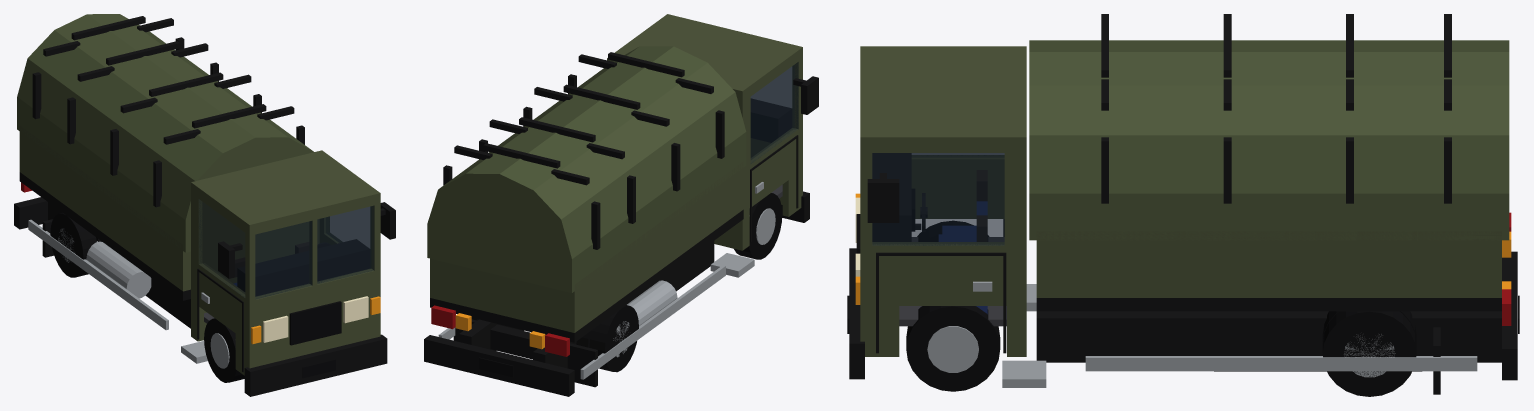
File: truk_terpal.glb
The picture shows the model from 3 angles, left to right: view 1: azimuth 30°, elevation 25°; view 2: azimuth 150°, elevation 25°; view 3: azimuth 270°, elevation 25°; orthographic projection. The views are drawn at different scales.
Visible parts, largest first — view 1: CanvasRoof, Roof, BakWall_L, CabFrontLow, Bumper_F, Windshield_L, Windshield_R, IntDash, CanvasFrontFlap, SideGlass_L, CabBackTop, CanvasStrap_0 (+32 smaller); view 2: CanvasRoof, CanvasRearFlap, BakWall_L, Roof, BakBack, Bumper_R, SideGlass_L, CargoFloor, Wheel_RL, CanvasStrap_3, CanvasStrap_1, CanvasStrap_0 (+25 smaller); view 3: CanvasRoof, BakWall_R, Roof, ChassisRail_R, SideGlass_R, CargoFloor, SideGuard_R, Wheel_RR, CabArch_R, Wheel_FR, CabArch_L, CabSideLowF_R (+22 smaller).
Part boxes in pixels (bbox=[...]): CanvasRoof: bbox=[19, 16, 310, 247]; Roof: bbox=[191, 150, 380, 232]; BakWall_L: bbox=[19, 125, 187, 291]; CabFrontLow: bbox=[246, 272, 380, 368]; Bumper_F: bbox=[244, 334, 387, 396]; Windshield_L: bbox=[255, 221, 312, 299]; Windshield_R: bbox=[317, 206, 373, 283]; IntDash: bbox=[237, 239, 369, 296]; CanvasFrontFlap: bbox=[183, 135, 313, 252]; SideGlass_L: bbox=[198, 199, 245, 297]; CabBackTop: bbox=[191, 190, 319, 263]; CanvasStrap_0: bbox=[153, 104, 304, 207]; CanvasRoof: bbox=[442, 48, 743, 288]; CanvasRearFlap: bbox=[427, 172, 574, 292]; BakWall_L: bbox=[570, 161, 743, 332]; Roof: bbox=[607, 14, 802, 99]; BakBack: bbox=[430, 259, 576, 332]; Bumper_R: bbox=[424, 335, 574, 396]; SideGlass_L: bbox=[750, 62, 798, 163]; CargoFloor: bbox=[430, 209, 743, 342]; Wheel_RL: bbox=[576, 305, 638, 372]; CanvasStrap_3: bbox=[443, 143, 600, 249]; CanvasStrap_1: bbox=[523, 84, 680, 191]; CanvasStrap_0: bbox=[568, 52, 724, 158]; CanvasRoof: bbox=[1036, 40, 1501, 240]; BakWall_R: bbox=[1036, 231, 1501, 297]; Roof: bbox=[860, 46, 1026, 148]; ChassisRail_R: bbox=[1036, 311, 1501, 362]; SideGlass_R: bbox=[872, 153, 1004, 245]; CargoFloor: bbox=[1036, 298, 1501, 311]; SideGuard_R: bbox=[1085, 356, 1477, 371]; Wheel_RR: bbox=[1322, 311, 1416, 396]; CabArch_R: bbox=[899, 250, 1006, 305]; Wheel_FR: bbox=[906, 306, 1000, 391]; CabArch_L: bbox=[912, 164, 1004, 218]; CabSideLowF_R: bbox=[860, 250, 899, 356].
Bounding box in the file's own units: 1.12 × 1.37 × 2.74.
